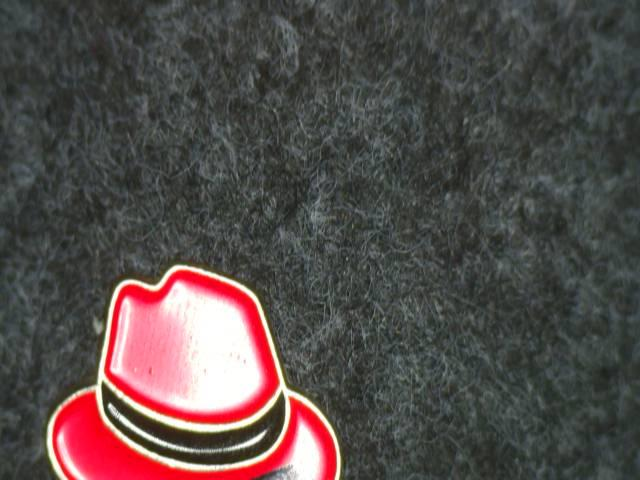Red-Hat: (27, 244, 355, 480)
Scratch: (237, 450, 322, 480)
